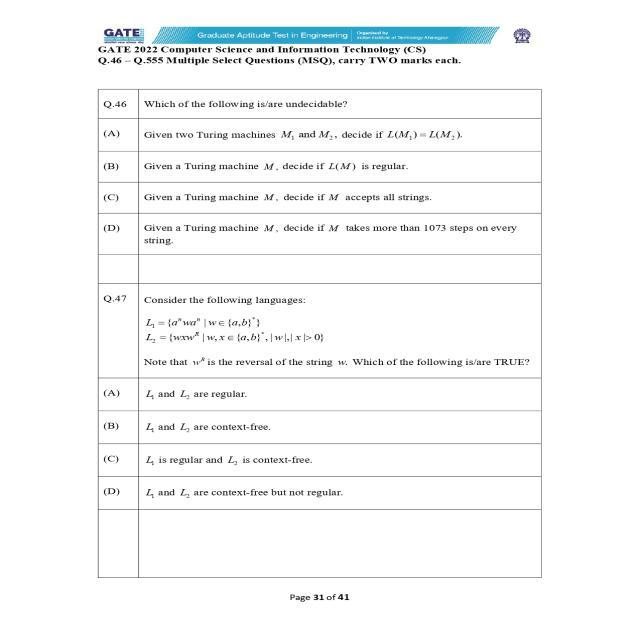Answer_Block: (98, 118, 541, 254), (100, 380, 540, 506)
Instruction: (97, 54, 540, 78)
Question_Answer_Block: (98, 284, 542, 508), (97, 90, 541, 254)
Question_Block: (99, 284, 542, 378), (98, 90, 541, 118)
Question_Paper_Area: (98, 89, 540, 508)
